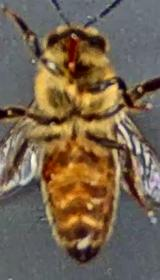varroa_mite: (35, 146, 57, 182)
